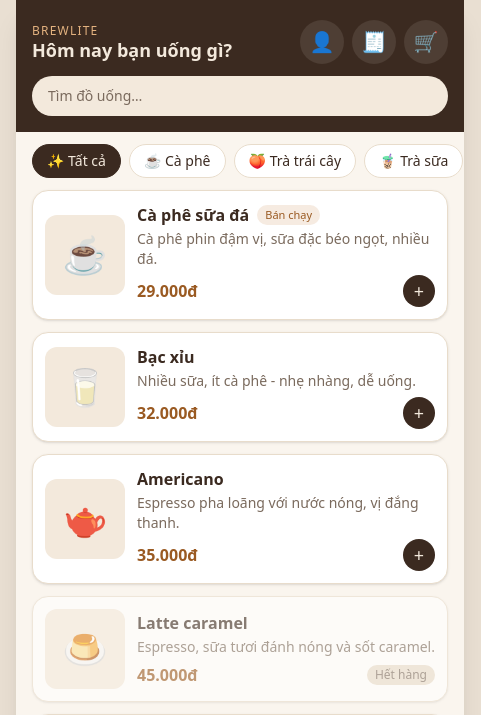
MenuScreen - lọc & tìm kiếm › lọc theo danh mục
Expected: the text "Cà phê sữa đá" is shown, [137,203,249,227]
Click the button "🧋 Trà sữa" at [414, 161], box [364,144,463,178]
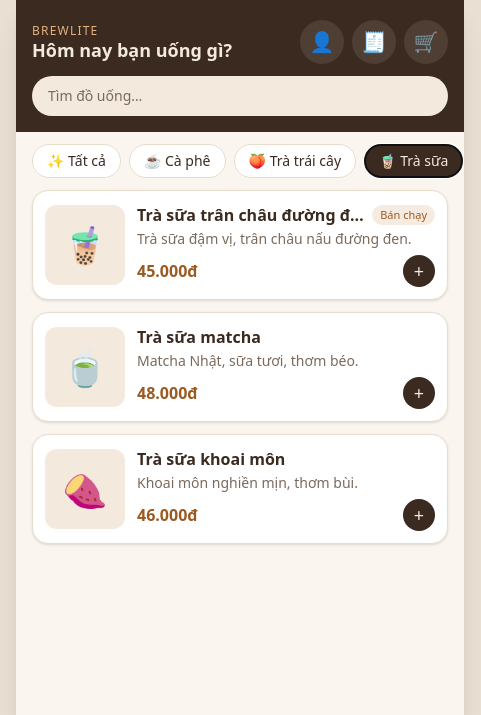
Expected: the text "Trà sữa matcha" is shown, [137,325,261,349]
Expected: the button "Cà phê sữa đá" is gone
